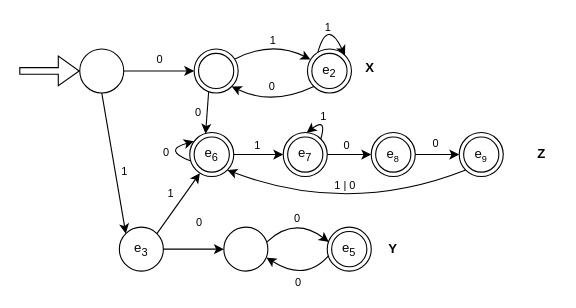
Some shapes in this 576 by 308 pixel diagram are drawn without their labels. Each missing label, with the box of its shape:
e 0: (79, 48, 124, 93)
e 1: (193, 48, 238, 93)
e 4: (223, 226, 268, 271)
